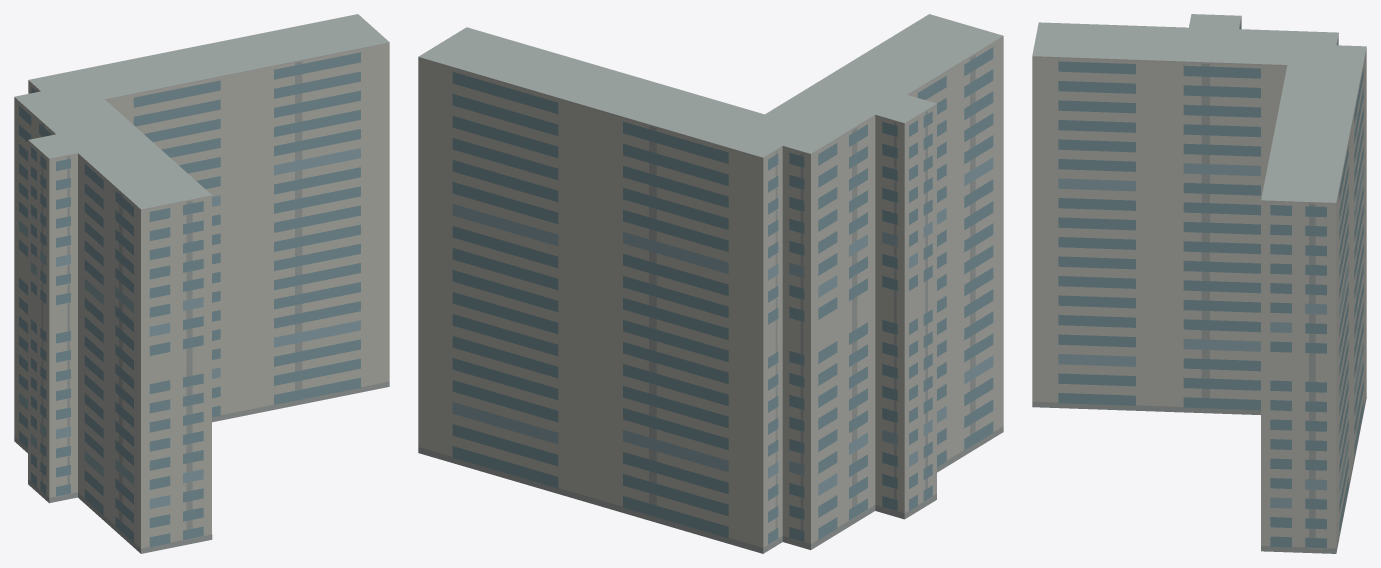
The model's file is residential-d8cc7787-2838-4d6c-912a-ee6a97692137.glb.
3 renders of one model, left to right at view 1: azimuth 30°, elevation 25°; view 2: azimuth 150°, elevation 25°; view 3: azimuth 270°, elevation 25°, orthographic. The views are drawn at different scales.
Visible parts, largest first — view 1: residential-d8cc7787-2838-4d6c-912a-ee6a97692137.tmp; view 2: residential-d8cc7787-2838-4d6c-912a-ee6a97692137.tmp; view 3: residential-d8cc7787-2838-4d6c-912a-ee6a97692137.tmp.
Boxes of the visible parts, x1,y1,x2,y2 form: residential-d8cc7787-2838-4d6c-912a-ee6a97692137.tmp: [14, 14, 389, 553]; residential-d8cc7787-2838-4d6c-912a-ee6a97692137.tmp: [418, 14, 1003, 553]; residential-d8cc7787-2838-4d6c-912a-ee6a97692137.tmp: [1032, 14, 1366, 553].
Bounding box in the file's own units: 63.38 × 54.9 × 47.43.
